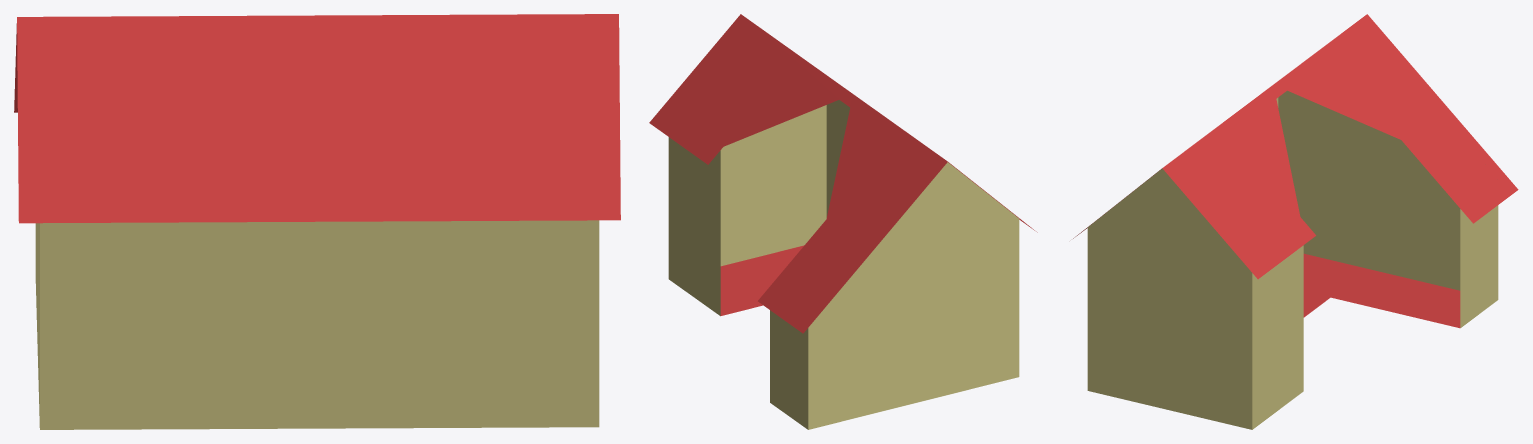
3 views of the same model, side by side, from view 1: azimuth 30°, elevation 25°; view 2: azimuth 150°, elevation 25°; view 3: azimuth 270°, elevation 25° (orthographic). The views are drawn at different scales.
Bounding box in the file's own units: 23.92 × 22.86 × 13.84.
